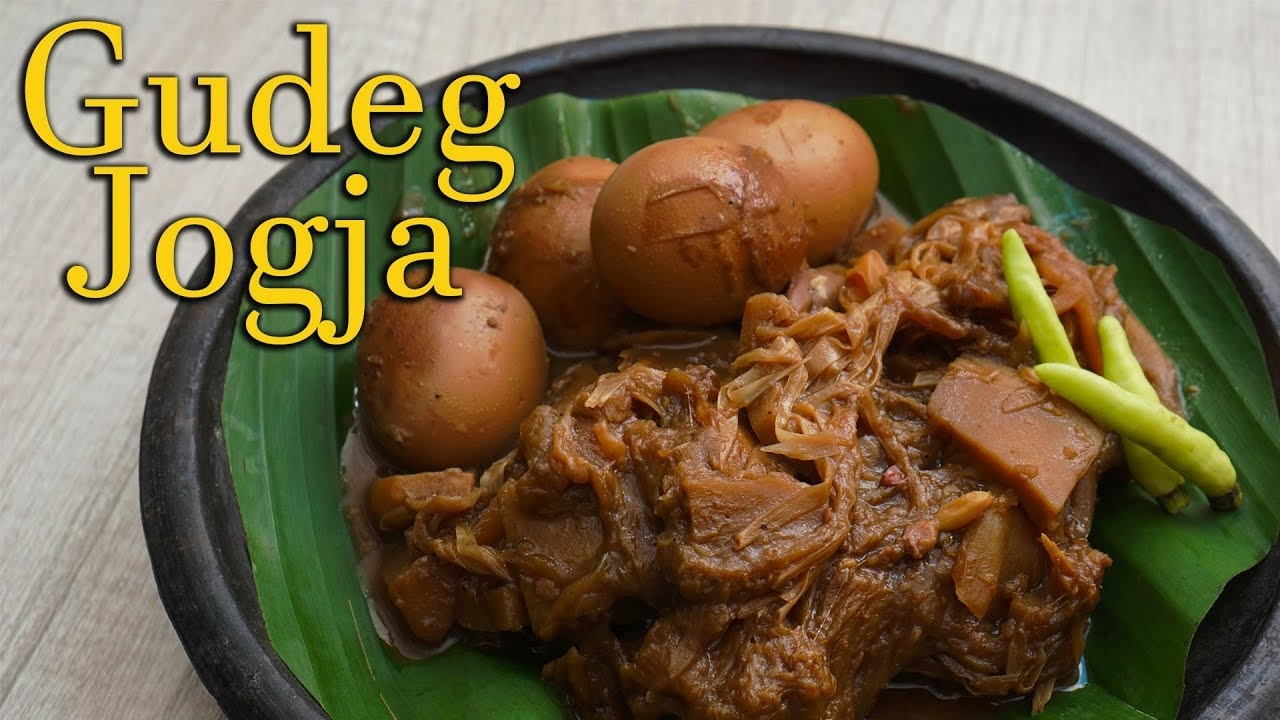gudeg: (313, 112, 1201, 720)
